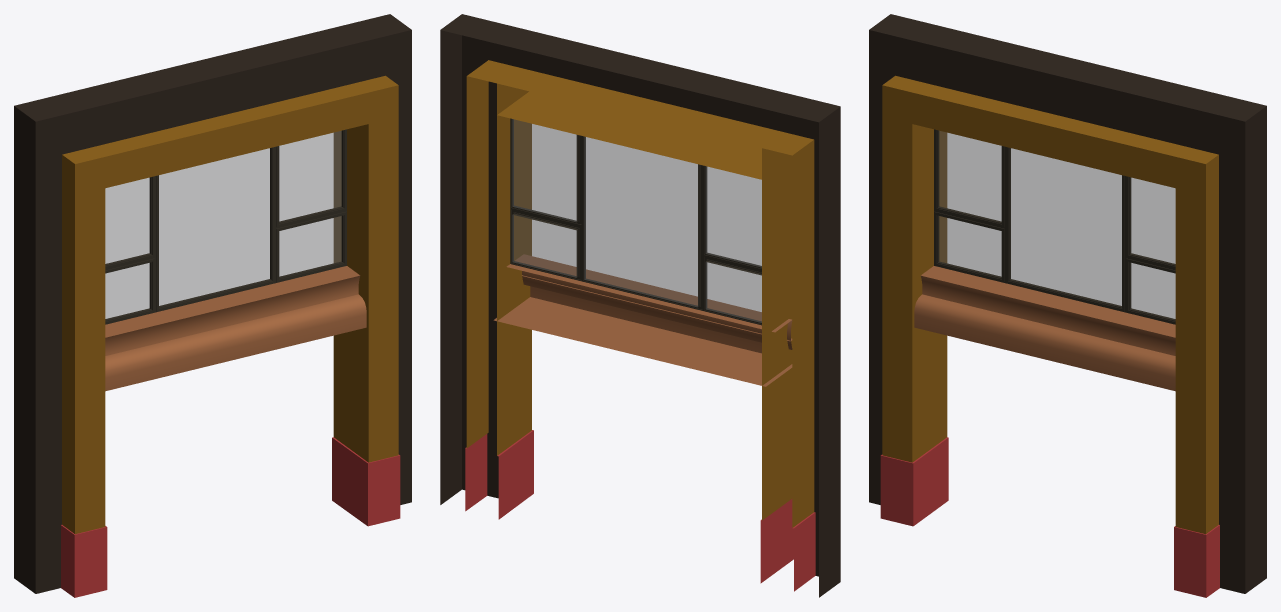
Rendered from OkonomiyakiFront.FBX.
3 renders of one model, left to right at view 1: azimuth 30°, elevation 25°; view 2: azimuth 150°, elevation 25°; view 3: azimuth 330°, elevation 25°, orthographic.
Visible parts, largest first — view 1: OkonomiyakiFront; view 2: OkonomiyakiFront; view 3: OkonomiyakiFront.
Part boxes in pixels (x1=…): OkonomiyakiFront: x1=14, y1=14, x2=411, y2=597; OkonomiyakiFront: x1=440, y1=14, x2=840, y2=597; OkonomiyakiFront: x1=869, y1=14, x2=1266, y2=597.
Size of the model in its own units: 500 by 600 by 81.41.
